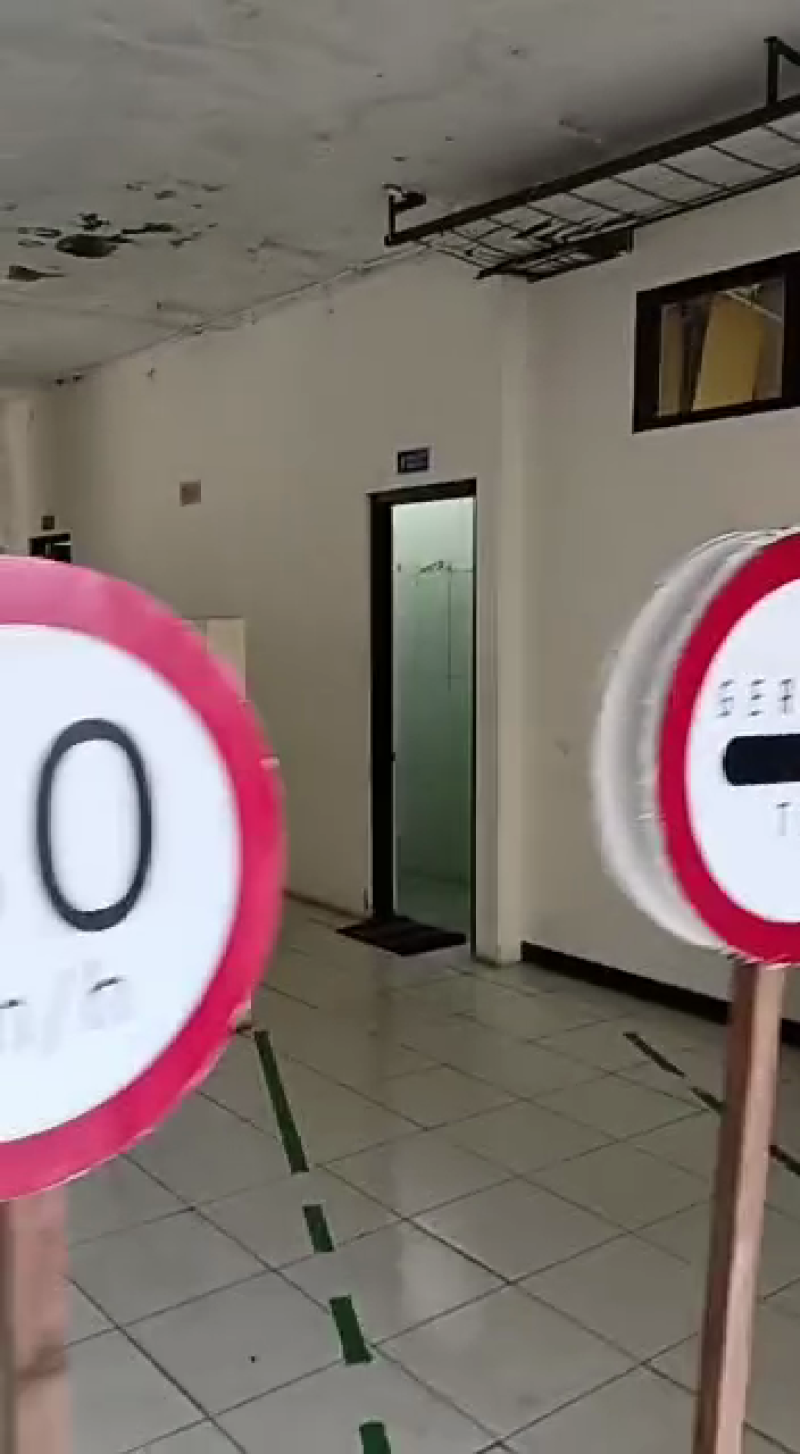gerbang tol: (644, 507, 800, 968)
